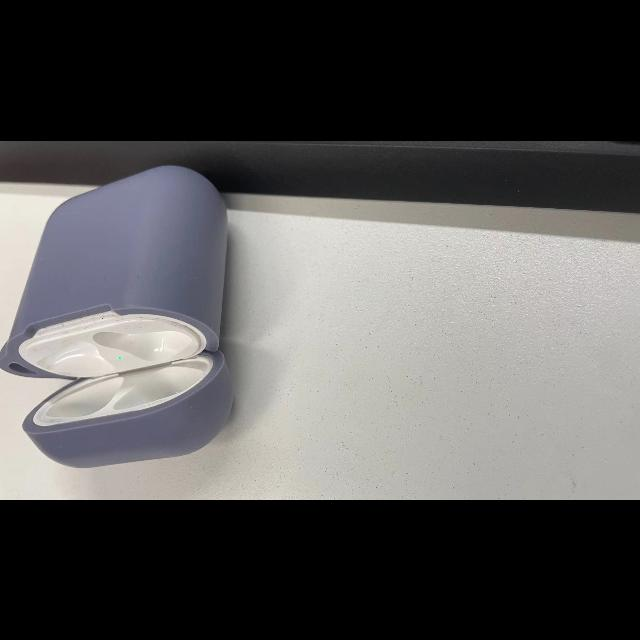airpods: (0, 165, 233, 468)
